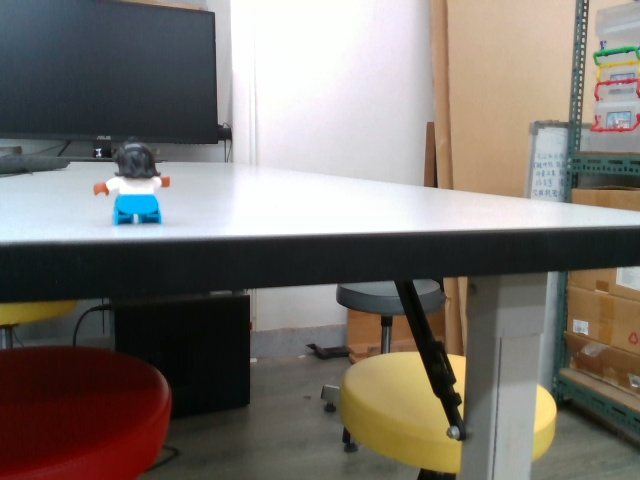people: (91, 141, 173, 228)
